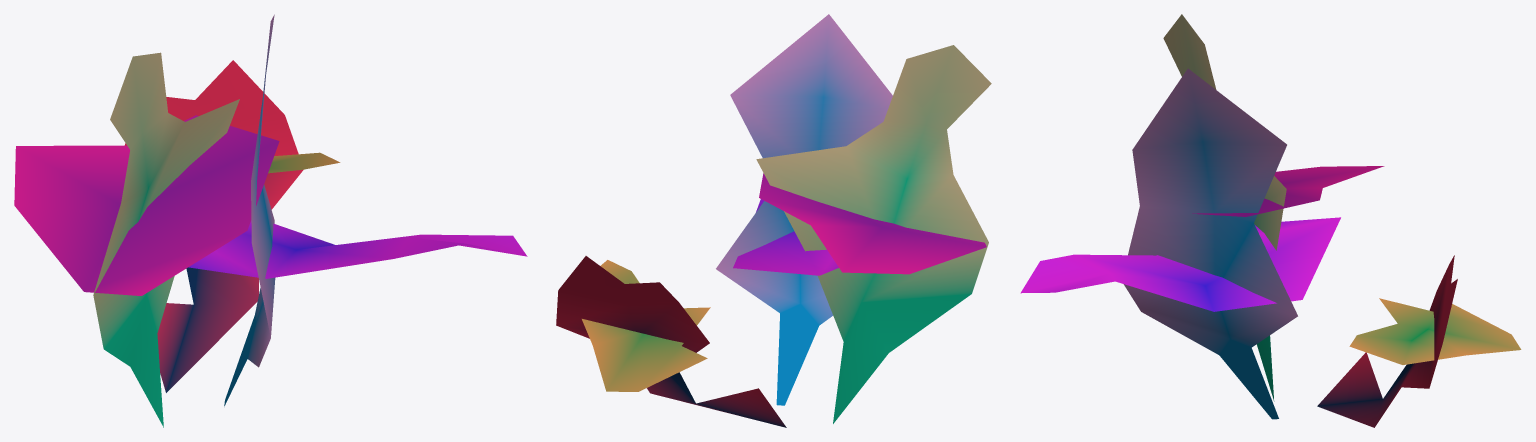
The model's file is Downy_Willow_wknlfiuqx_Mid_wknlfiuqx_VarC_LOD2.fbx.
The picture shows the model from 3 angles, left to right: view 1: azimuth 30°, elevation 25°; view 2: azimuth 150°, elevation 25°; view 3: azimuth 270°, elevation 25°; orthographic projection. The views are drawn at different scales.
Visible parts, largest first — view 1: _7ohh_VarC_LOD3; view 2: _7ohh_VarC_LOD3; view 3: _7ohh_VarC_LOD3.
Part boxes in pixels (<box>): _7ohh_VarC_LOD3: <box>14,14,527,427</box>; _7ohh_VarC_LOD3: <box>556,14,991,427</box>; _7ohh_VarC_LOD3: <box>1020,14,1521,427</box>.
Size of the model in its own units: 63.58 by 72.44 by 92.32.
